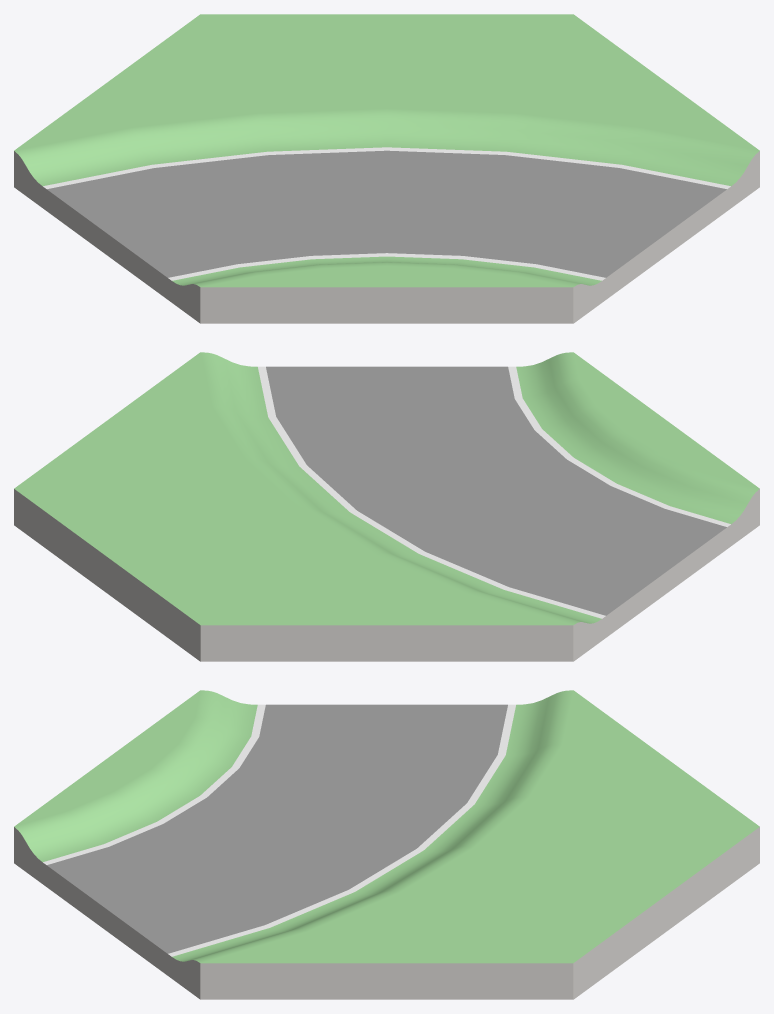
The model's file is Track_Flat_Curve_Gentle.glb.
The picture shows the model from 3 angles, top to bottom: view 1: azimuth 30°, elevation 25°; view 2: azimuth 150°, elevation 25°; view 3: azimuth 270°, elevation 25°; orthographic projection.
Parts seen in each view (by area): view 1: object1; view 2: object1; view 3: object1.
Boxes of the visible parts, <box> form: object1: <box>14,14,759,323</box>; object1: <box>14,352,759,661</box>; object1: <box>14,690,759,999</box>.
Size of the model in its own units: 1 by 0.0625 by 1.15.
